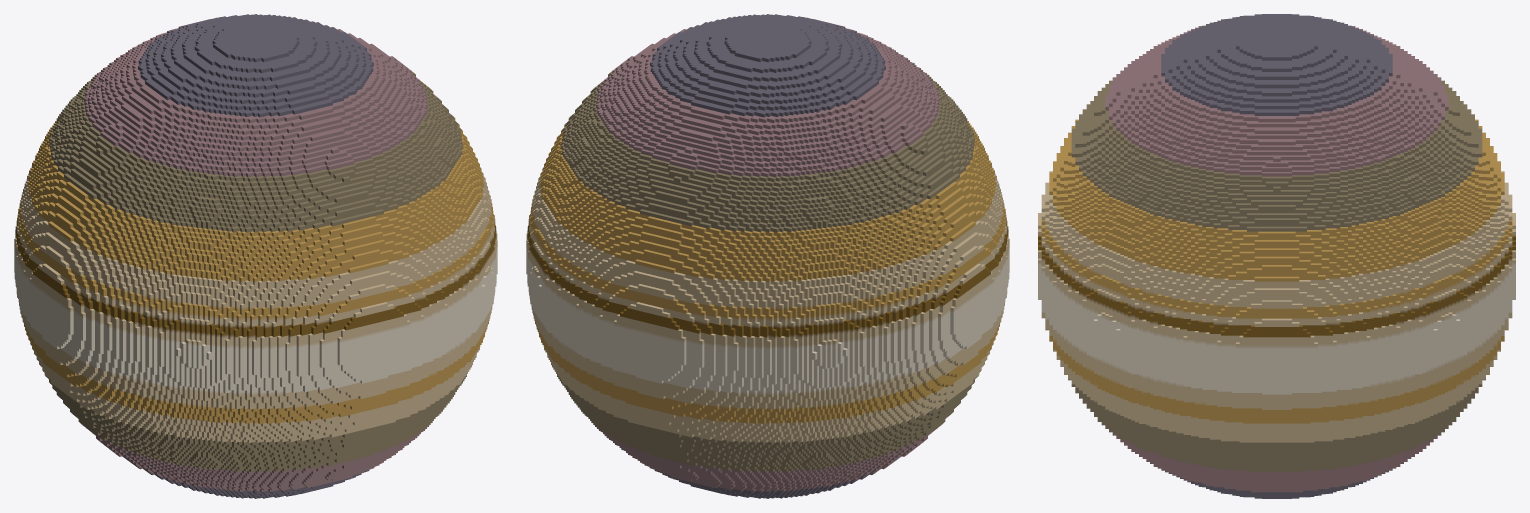
File: Saturn.fbx
3 views of the same model, side by side, from view 1: azimuth 30°, elevation 25°; view 2: azimuth 150°, elevation 25°; view 3: azimuth 270°, elevation 25° (orthographic).
Parts seen in each view (by area): view 1: Saturn; view 2: Saturn; view 3: Saturn.
Boxes of the visible parts, bbox=[...] form: Saturn: bbox=[14, 14, 497, 498]; Saturn: bbox=[526, 14, 1009, 498]; Saturn: bbox=[1038, 14, 1515, 498].
Bounding box in the file's own units: 128 × 128 × 128.
Materials: 1 (1 with a texture image).
